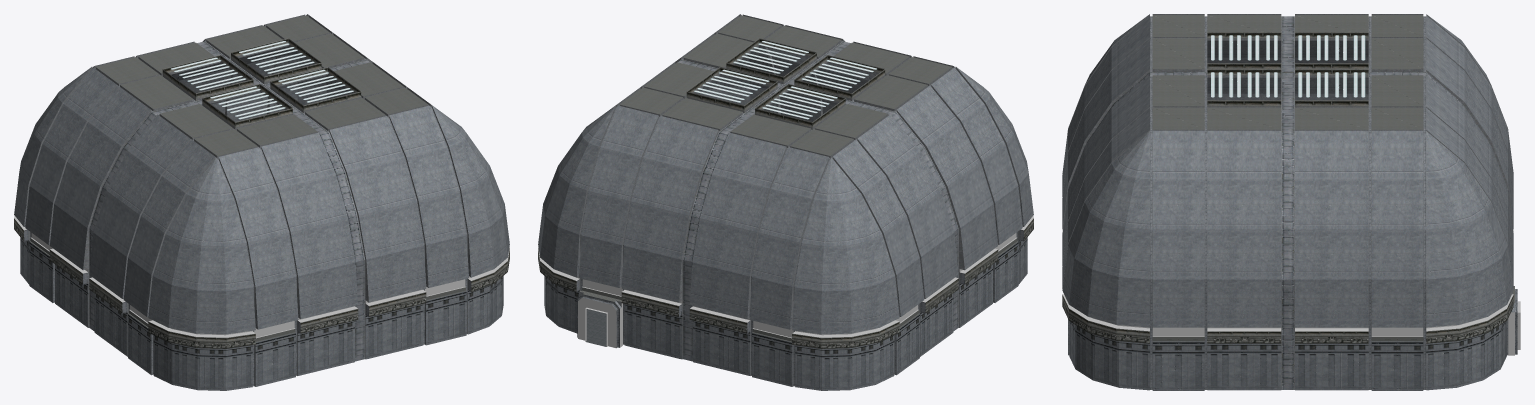
File: poi_all_impl_bunker_imperial_prison_s01_r16_interrogation_mesh_r16.fbx
The picture shows the model from 3 angles, left to right: view 1: azimuth 30°, elevation 25°; view 2: azimuth 150°, elevation 25°; view 3: azimuth 270°, elevation 25°; orthographic projection. The views are drawn at different scales.
Visible parts, largest first — view 1: mesh_node; view 2: mesh_node; view 3: mesh_node.
Part boxes in pixels (box(x1,y1,x2,y2)): mesh_node: box(14, 14, 509, 390); mesh_node: box(538, 14, 1033, 390); mesh_node: box(1062, 14, 1520, 390).
Size of the model in its own units: 33 by 18.7 by 33.5.
